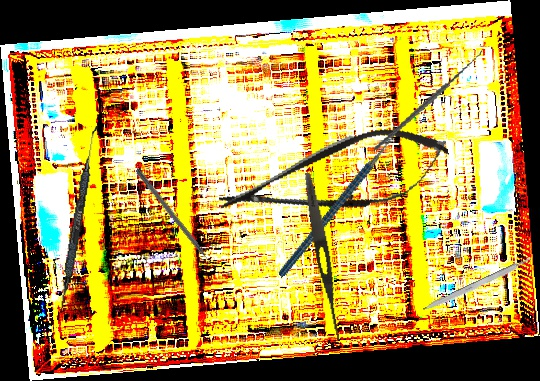Chopper: (241, 119, 434, 278)
Dressing Forceps: (300, 171, 347, 343)
Hook Surgical: (357, 44, 498, 152)
Micro Scissor: (211, 114, 457, 241)
Pusher: (133, 167, 219, 274)
Scalpel Handle: (421, 256, 534, 314)
Spatula Surgical: (57, 124, 99, 315)
